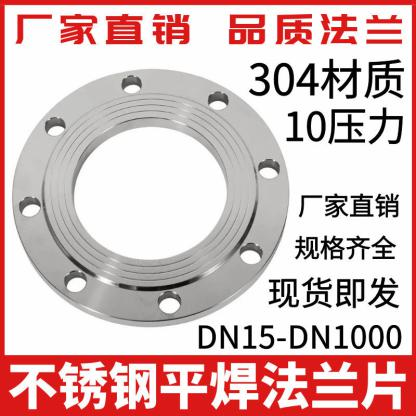FOD: (11, 59, 294, 328)
